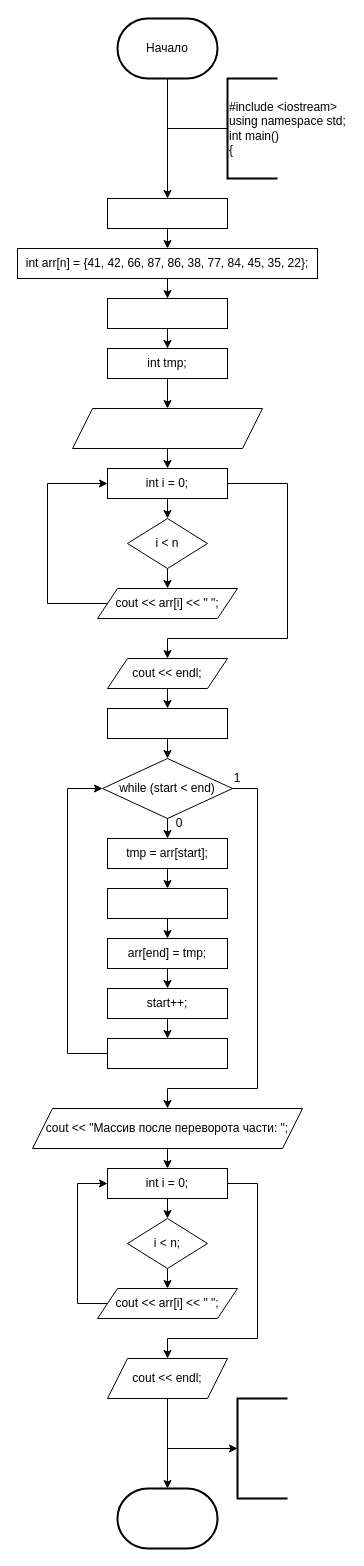
Some shapes in this 364 by 1566 pixel diagram are drawn without their labels. Here are the shapes that lost their labels. From the top down, the centre of each, then its label:
point 167,213: const int n = 11;
point 167,313: int p = 2, q = 6;
point 167,428: cout << "Исходный массив: ";
point 167,723: int start = p, end = q;
point 167,903: arr[start] = arr[end];
point 167,1053: end--;
point 262,1448: return 0;
point 167,1518: Конец
